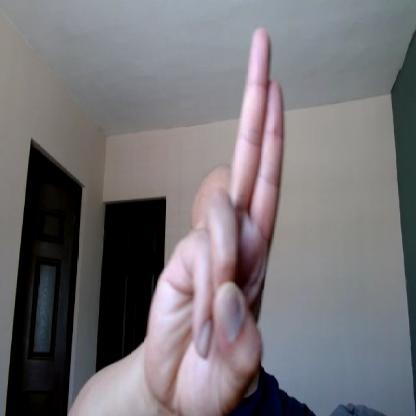U: (145, 24, 283, 415)
